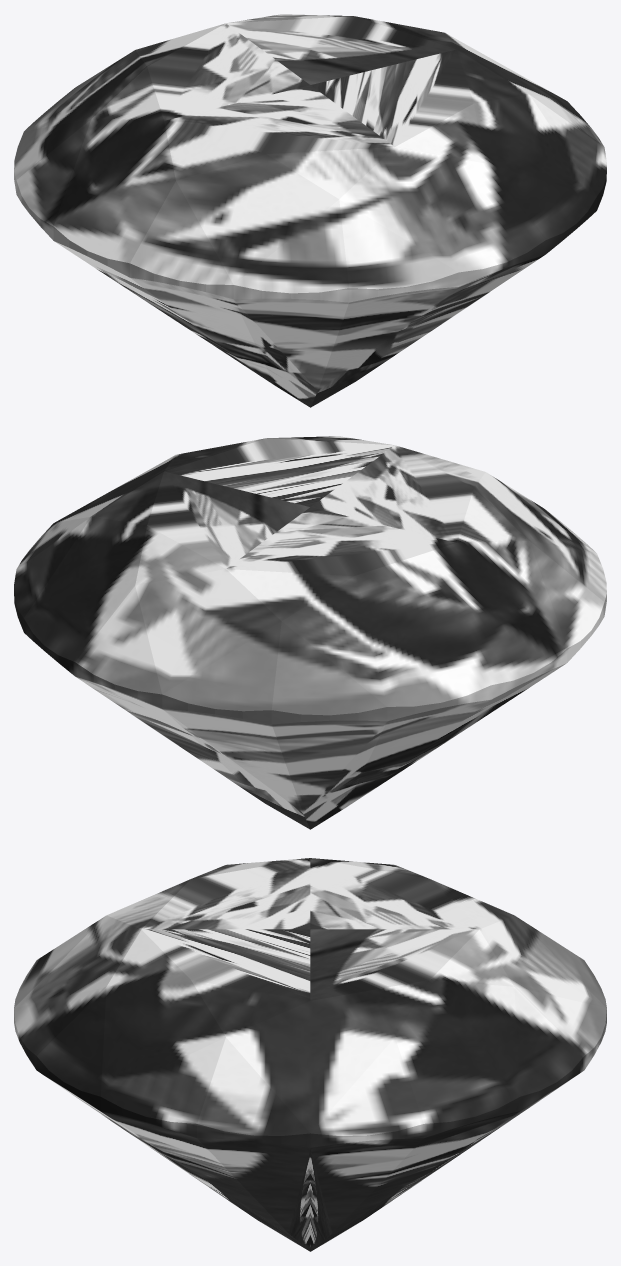
File: FBX 2A STONE.fbx
The picture shows the model from 3 angles, top to bottom: view 1: azimuth 30°, elevation 25°; view 2: azimuth 150°, elevation 25°; view 3: azimuth 270°, elevation 25°; orthographic projection.
Visible parts, largest first — view 1: Object_1; view 2: Object_1; view 3: Object_1.
Part boxes in pixels (box(x1,y1,x2,y2)): Object_1: box(14, 14, 606, 407); Object_1: box(14, 436, 606, 829); Object_1: box(14, 858, 606, 1251).
Bounding box in the file's own units: 2.26 × 2.26 × 1.36.
Materials: 1 (1 with a texture image).
